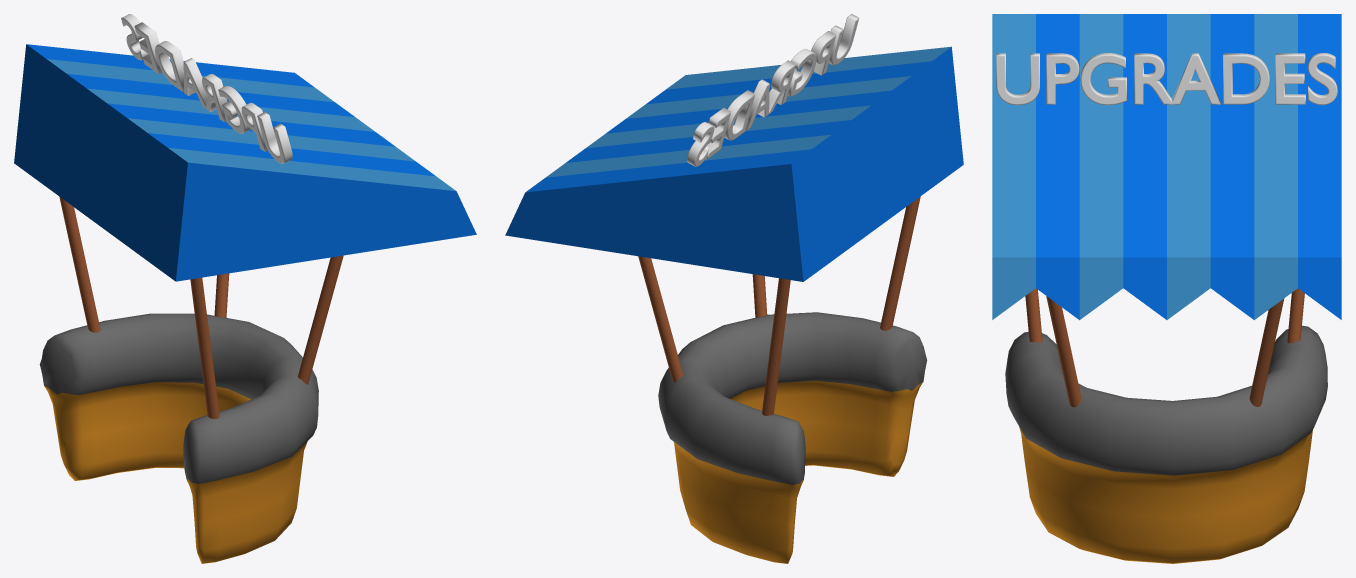
Rendered from Upgrades.fbx.
3 views of the same model, side by side, from view 1: azimuth 30°, elevation 25°; view 2: azimuth 150°, elevation 25°; view 3: azimuth 270°, elevation 25° (orthographic). The views are drawn at different scales.
Visible parts, largest first — view 1: Torus, Text; view 2: Torus, Text; view 3: Torus, Text.
Boxes of the visible parts, box(x1,y1,x2,y2) form: Torus: box(14, 44, 476, 563); Text: box(121, 14, 292, 163); Torus: box(505, 46, 963, 563); Text: box(687, 14, 859, 166); Torus: box(992, 14, 1341, 563); Text: box(996, 53, 1337, 105).
Bounding box in the file's own units: 1.24 × 1.73 × 1.15.
